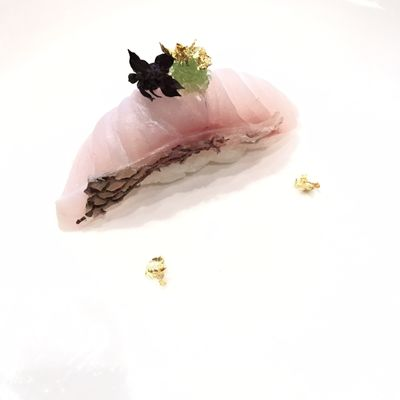sushi: (57, 39, 294, 231)
